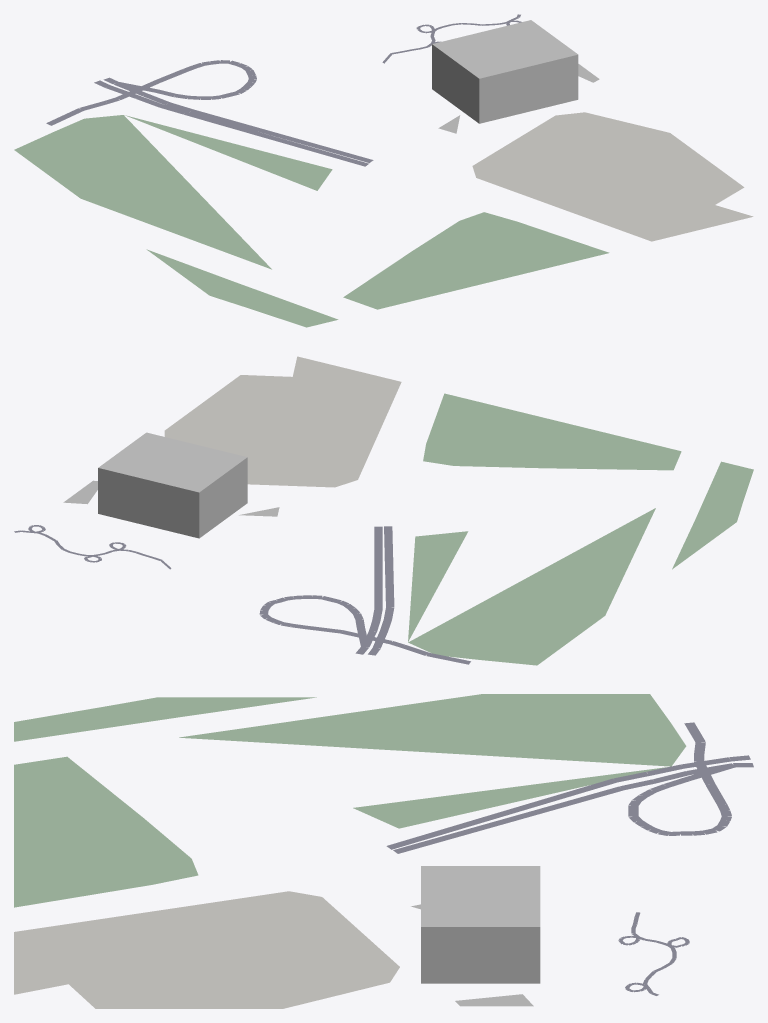
The model's file is 135_96_mid.glb.
3 views of the same model, one above another, from view 1: azimuth 30°, elevation 25°; view 2: azimuth 150°, elevation 25°; view 3: azimuth 270°, elevation 25° (orthographic). The views are drawn at different scales.
Size of the model in its own units: 500 by 45.77 by 498.
